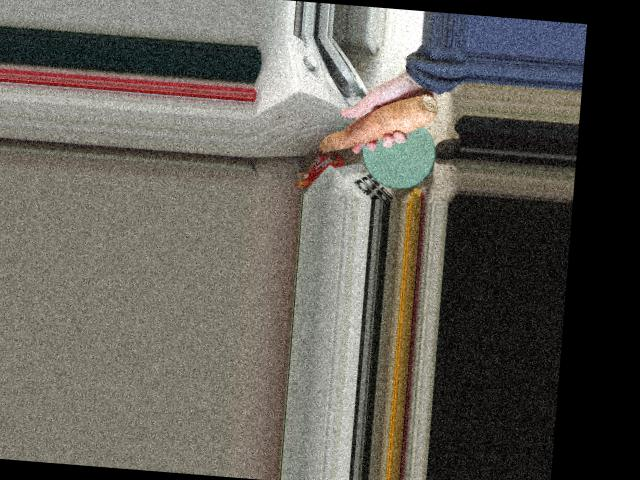sweet_potato: (309, 82, 441, 167)
